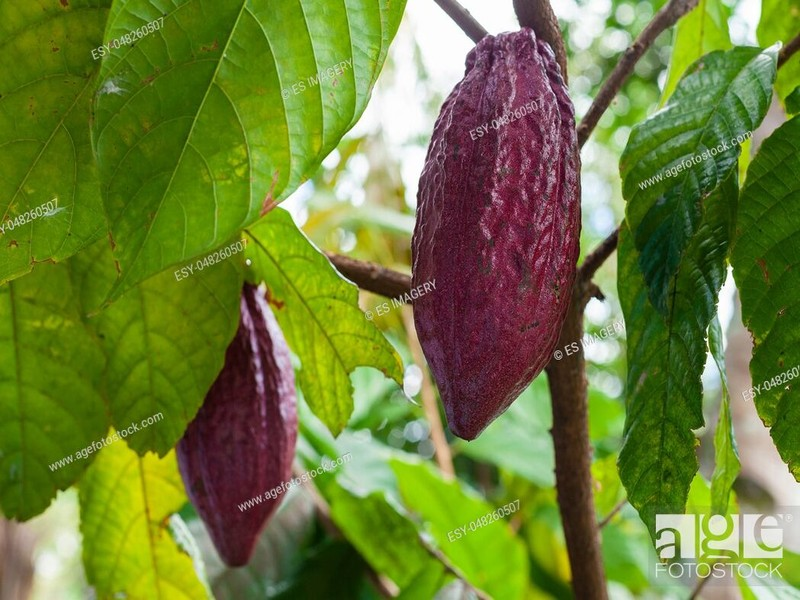Cacaopod: (412, 26, 581, 446)
